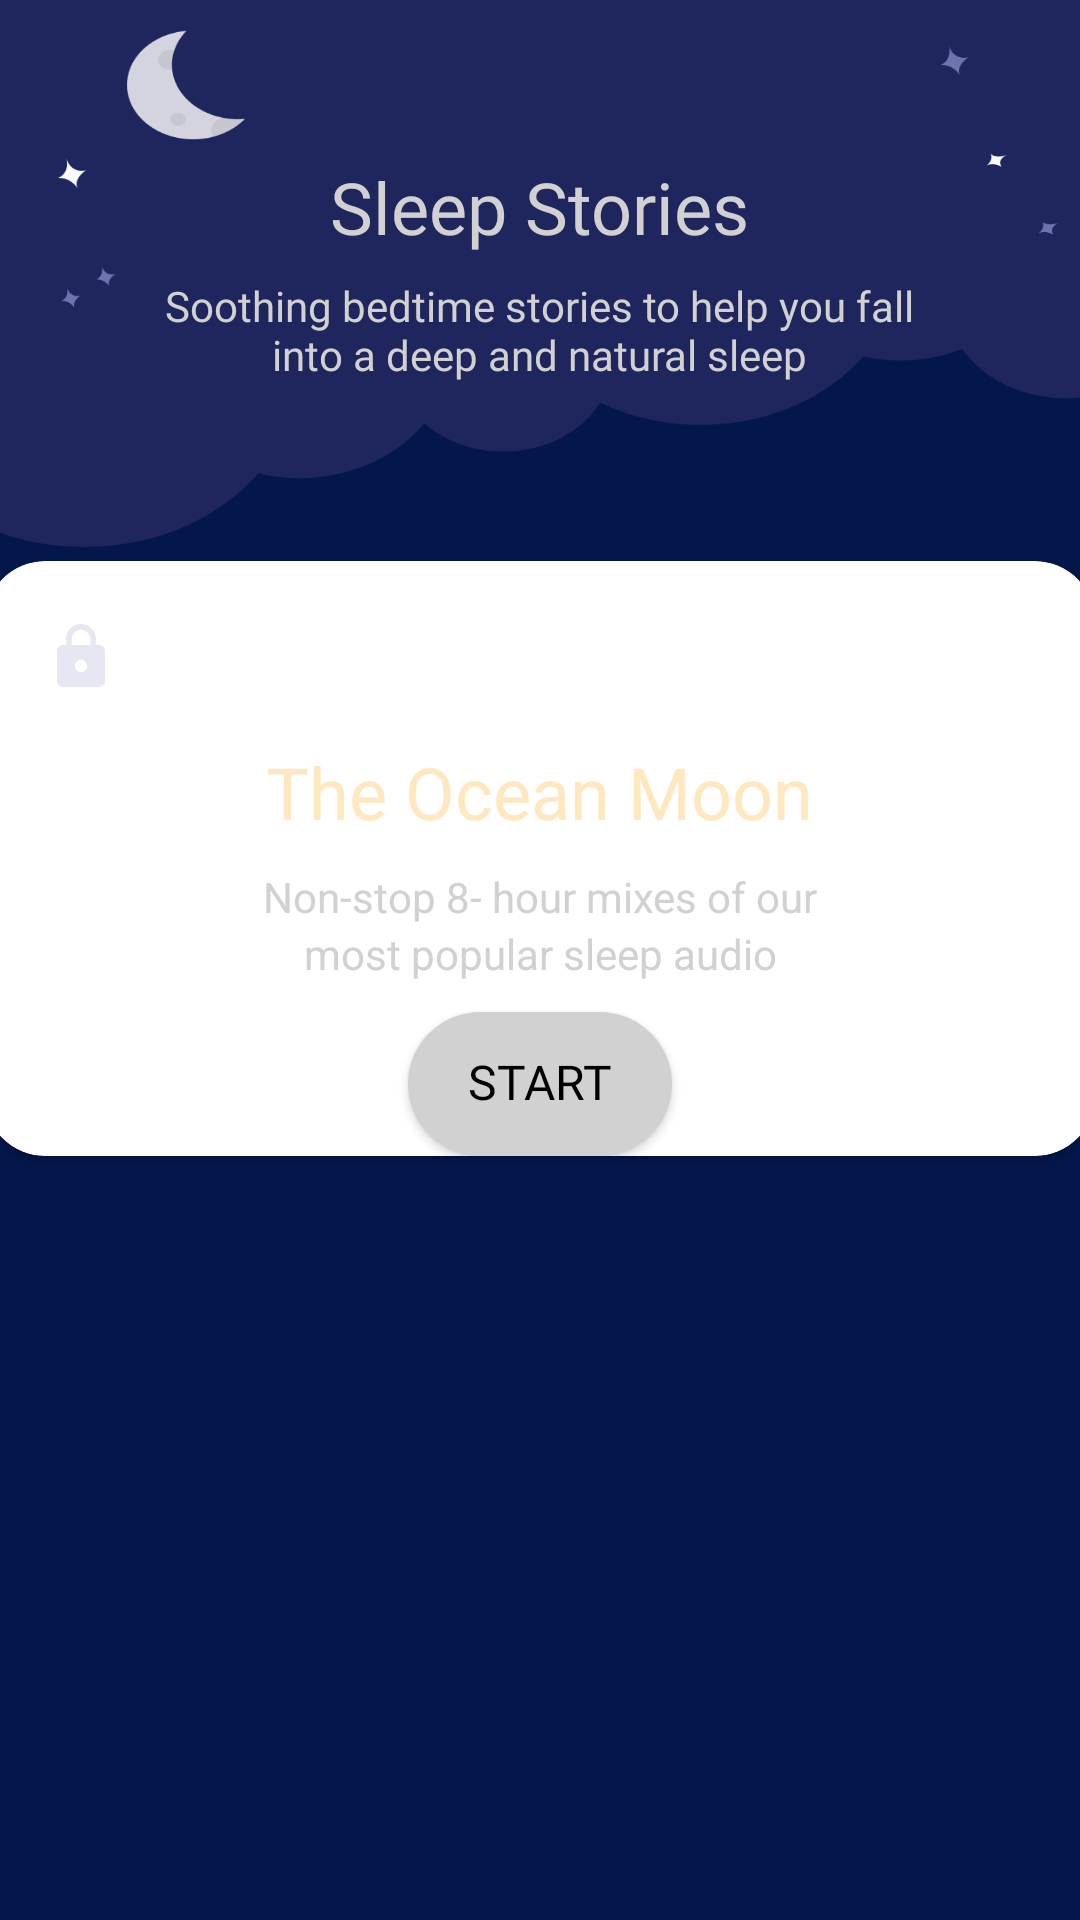

Named icons in this screenshot (1080px x 1920px) and their bounding boxes, (x1, y1, x2, y2):
lock: (57, 624, 105, 687)
